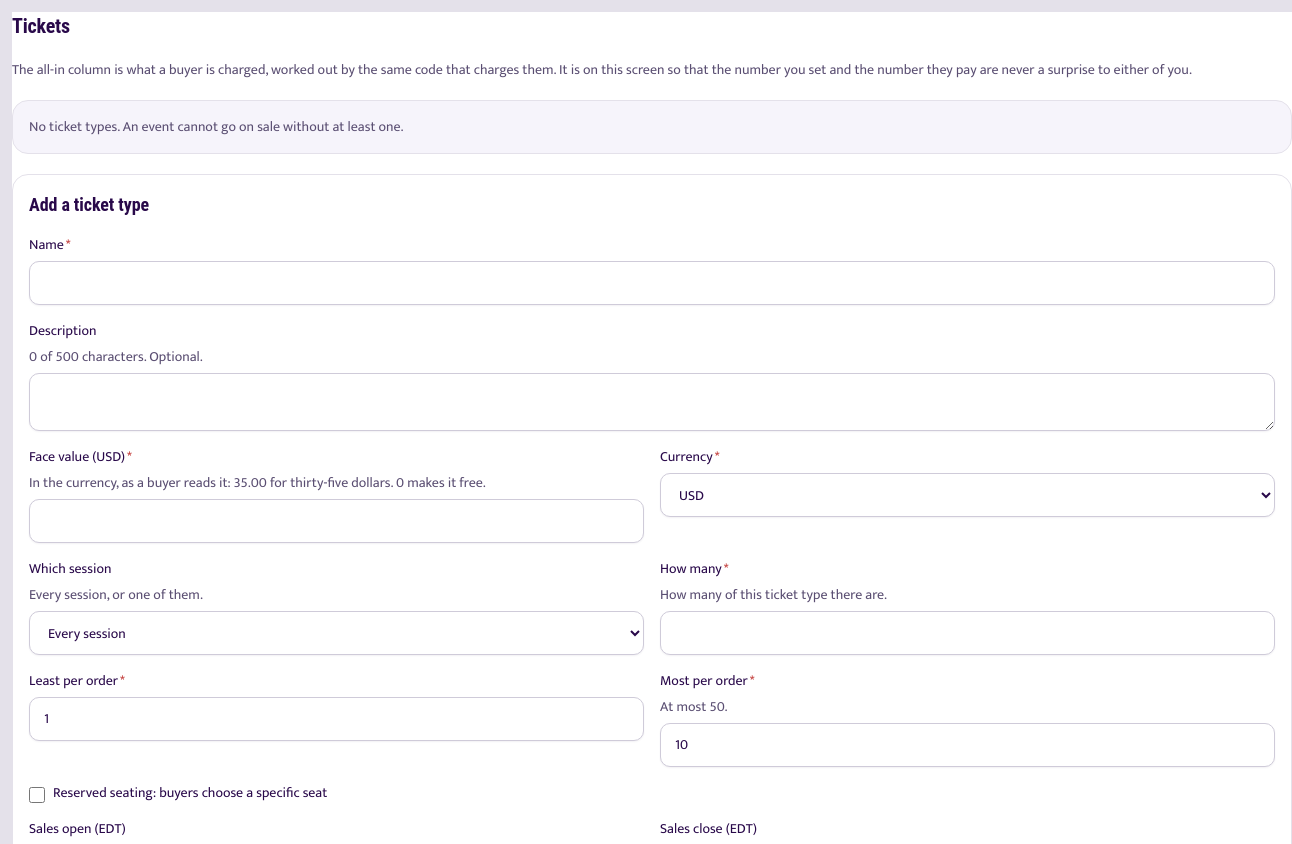
Test: adding a ticket type › offers the zones of a mapped session once reserved is ticked, and no quantity
Expected: the number field labelled "How many*" is shown, top-left (660, 611), bottom-right (1275, 655)
Click the checkbox labelled "Reserved seating: buyers choose a specific seat" at (37, 795), box top-left (29, 787), bottom-right (45, 803)
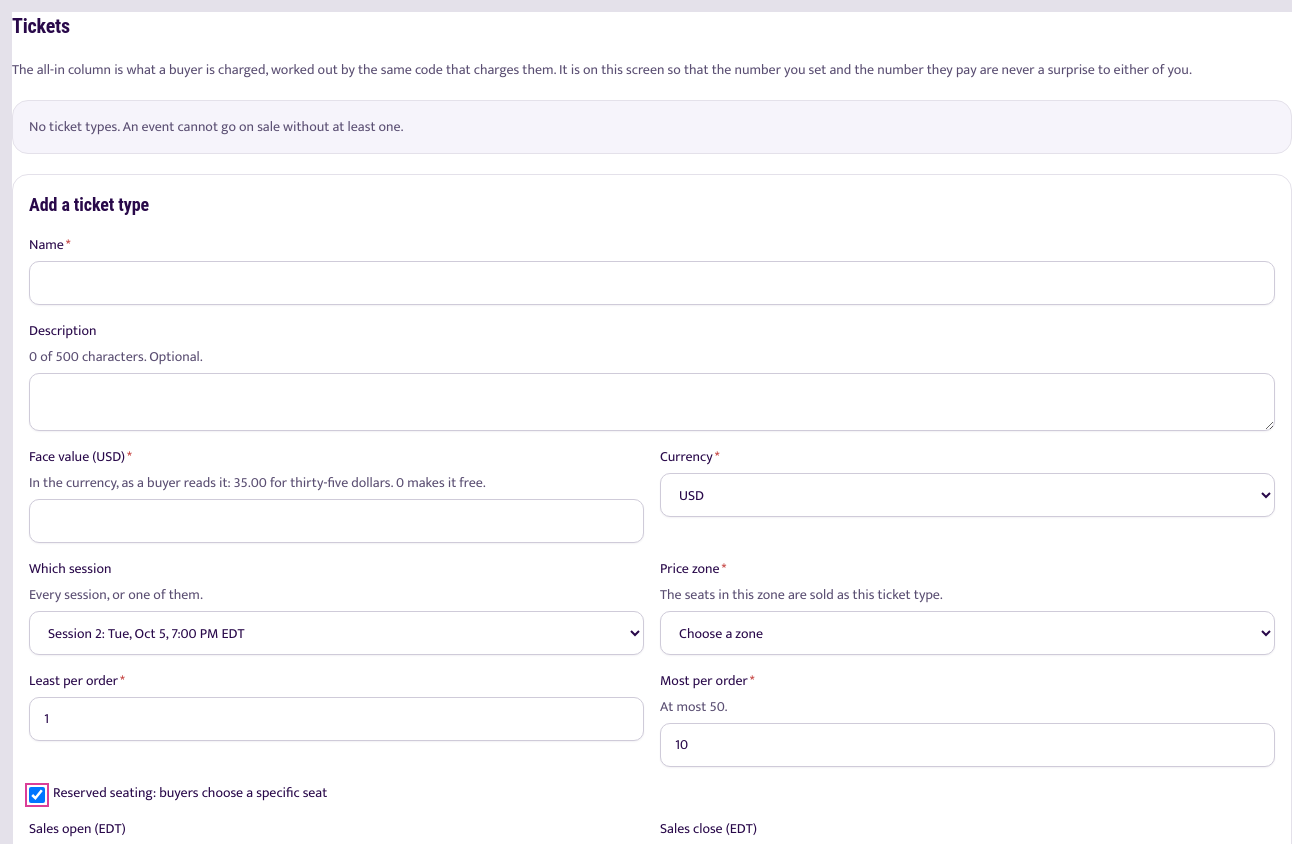
Expected: the label labelled "How many" is gone
Expected: the dropdown labelled "Which session" shows "Session 2: Tue, Oct 5, 7:00 PM EDT", top-left (29, 611), bottom-right (644, 655)
